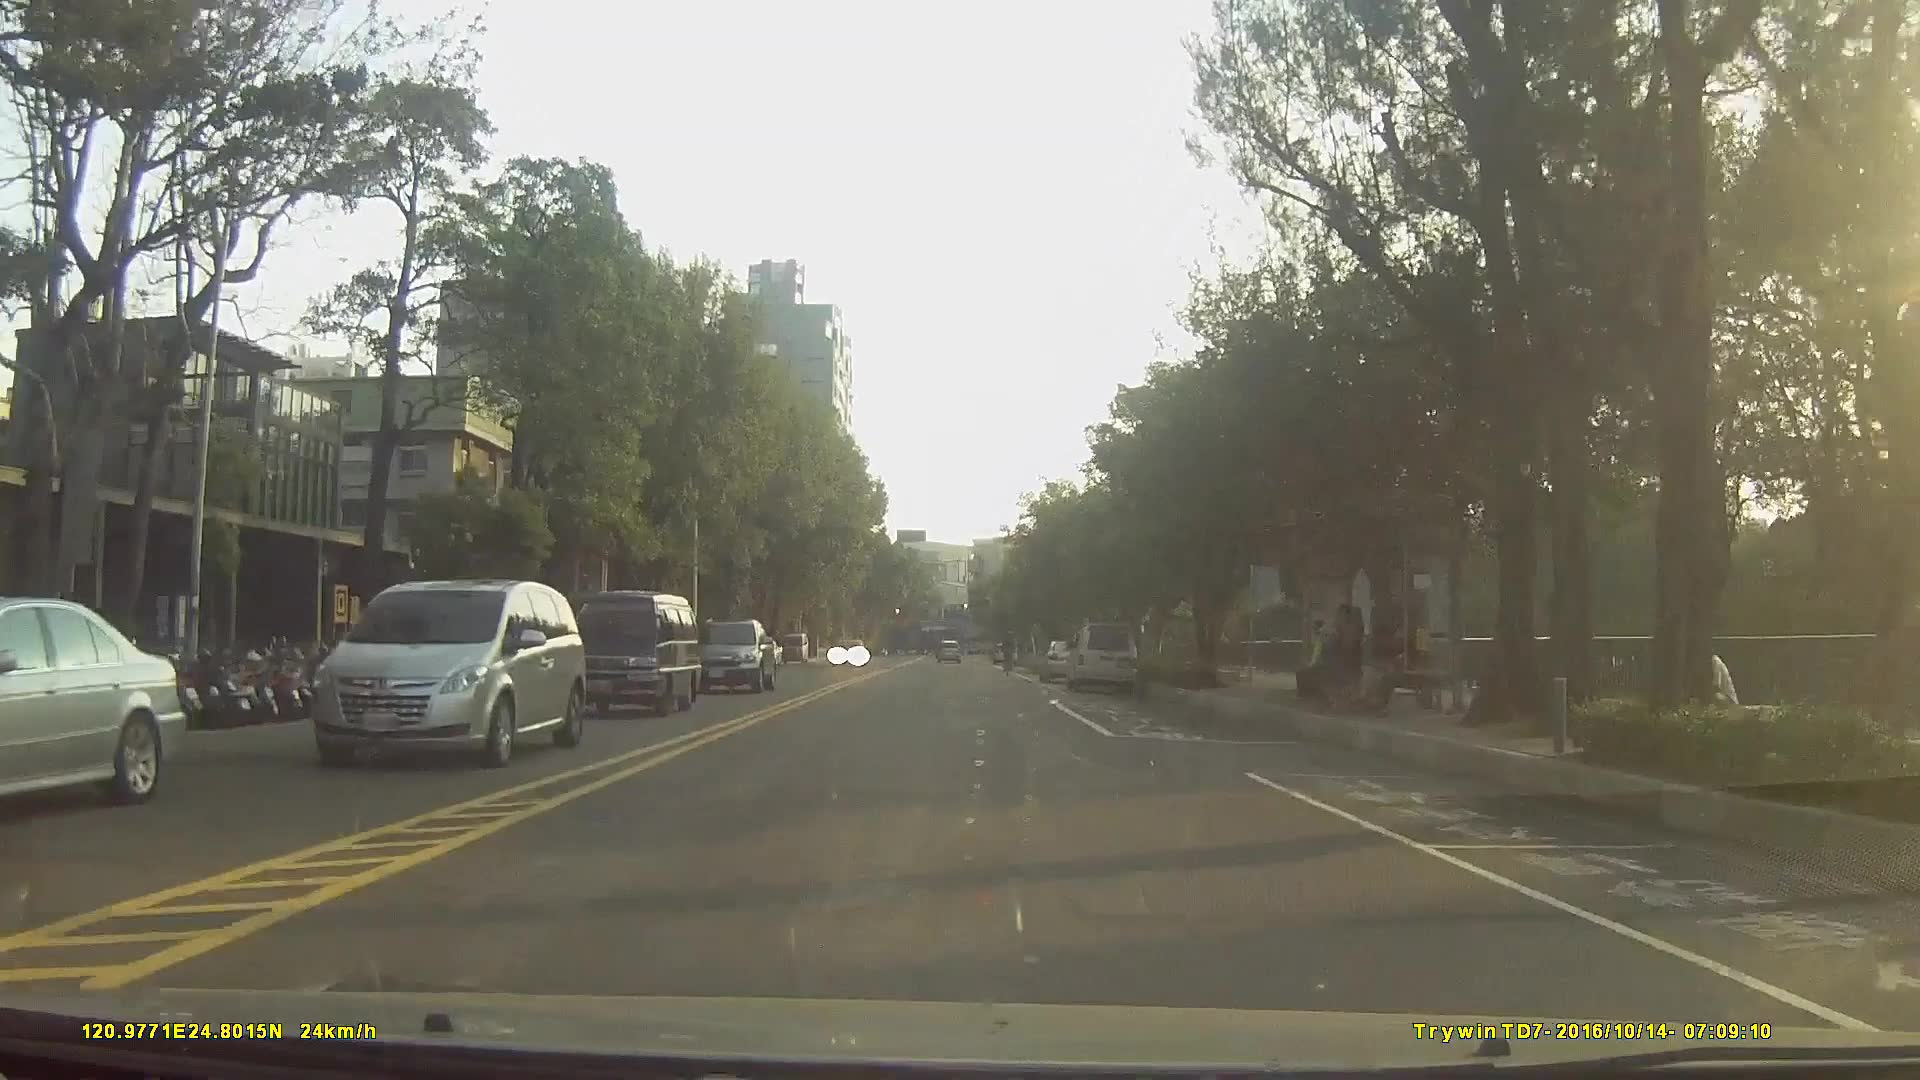pedestrian: (1322, 598, 1361, 722), (1294, 614, 1335, 707)
rider: (999, 631, 1019, 680)
vehicle: (306, 580, 585, 769), (0, 597, 185, 806), (560, 589, 704, 716), (687, 618, 778, 691), (1063, 620, 1139, 691), (1039, 637, 1089, 681), (827, 636, 865, 667), (776, 631, 810, 665), (936, 638, 963, 664)
